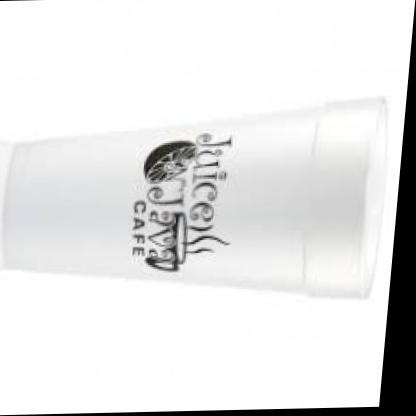trash: (0, 0, 413, 413), (3, 98, 386, 296), (144, 207, 229, 271)
